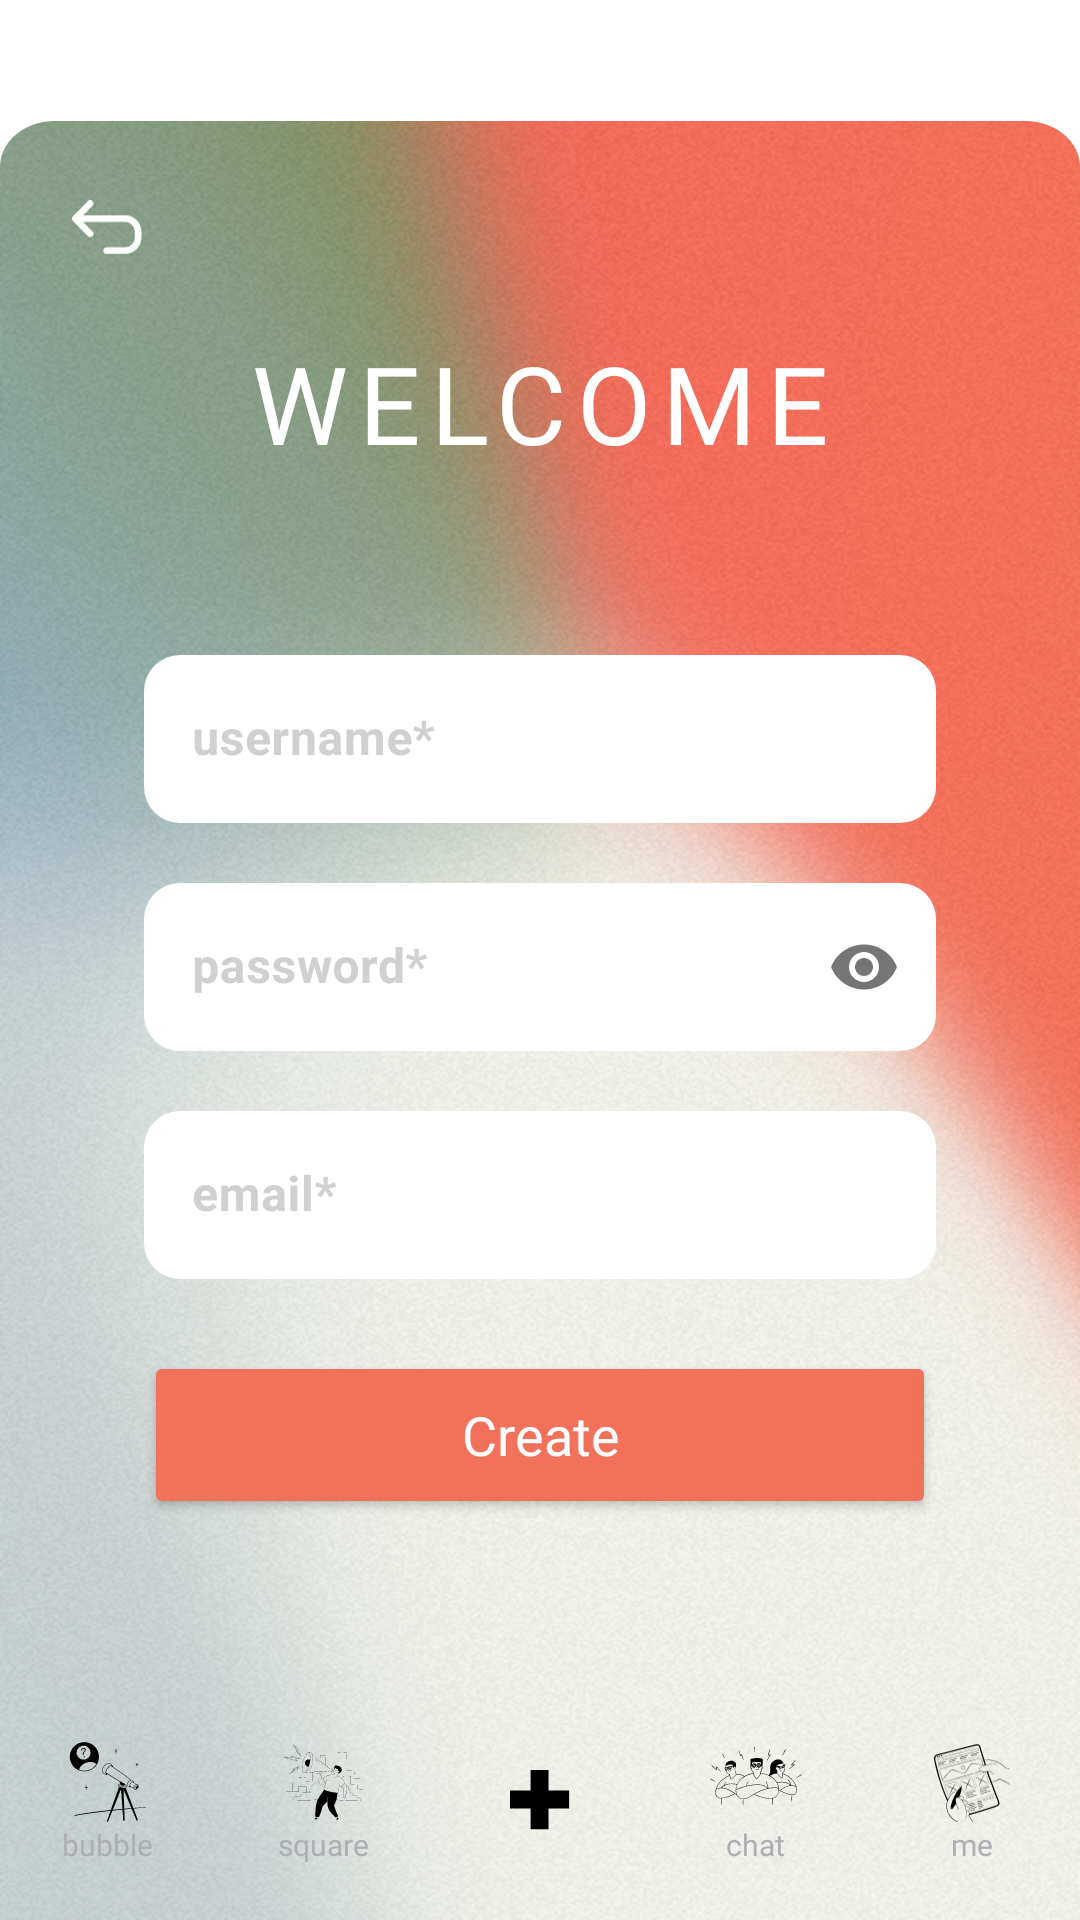

Icons on this 1080*1920 Android screen, each with the point to tap as (x=x, y=y):
add: (x=540, y=1800)
arrow back: (x=107, y=227)
